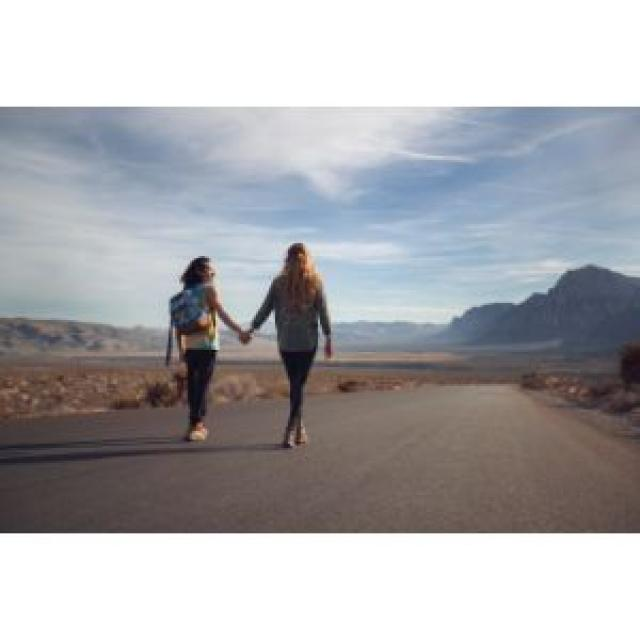nonfall: (265, 235, 340, 458), (154, 245, 241, 432)
